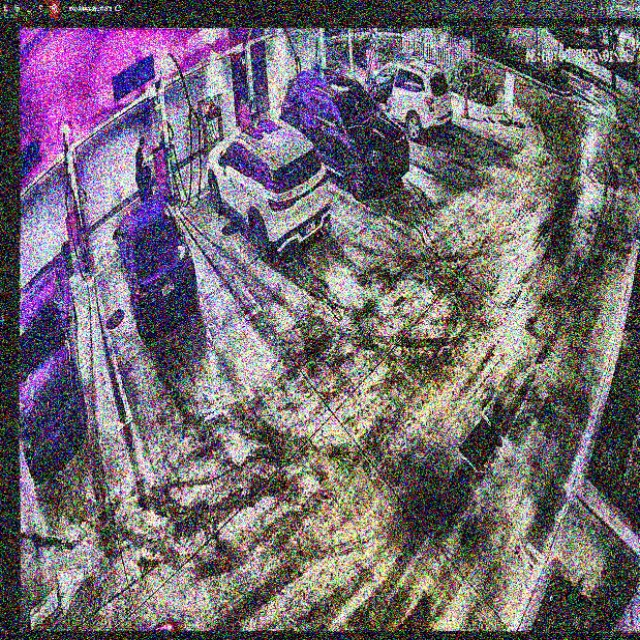Car: (207, 120, 331, 262), (281, 68, 408, 196), (112, 195, 196, 347)
